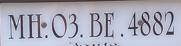0: (50, 12, 68, 38)
2: (164, 10, 176, 38)
3: (67, 12, 81, 40)
4: (125, 11, 140, 38)
8: (141, 11, 152, 39), (153, 12, 164, 38)
B: (89, 10, 104, 39)
E: (103, 10, 117, 42)
H: (26, 13, 43, 39)
M: (5, 12, 26, 40)
